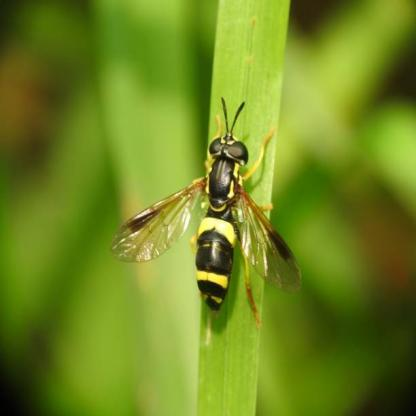sawfly: (111, 96, 309, 328)
